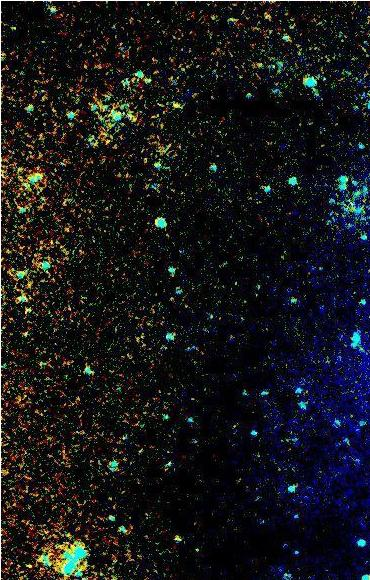star: (164, 89, 194, 119)
